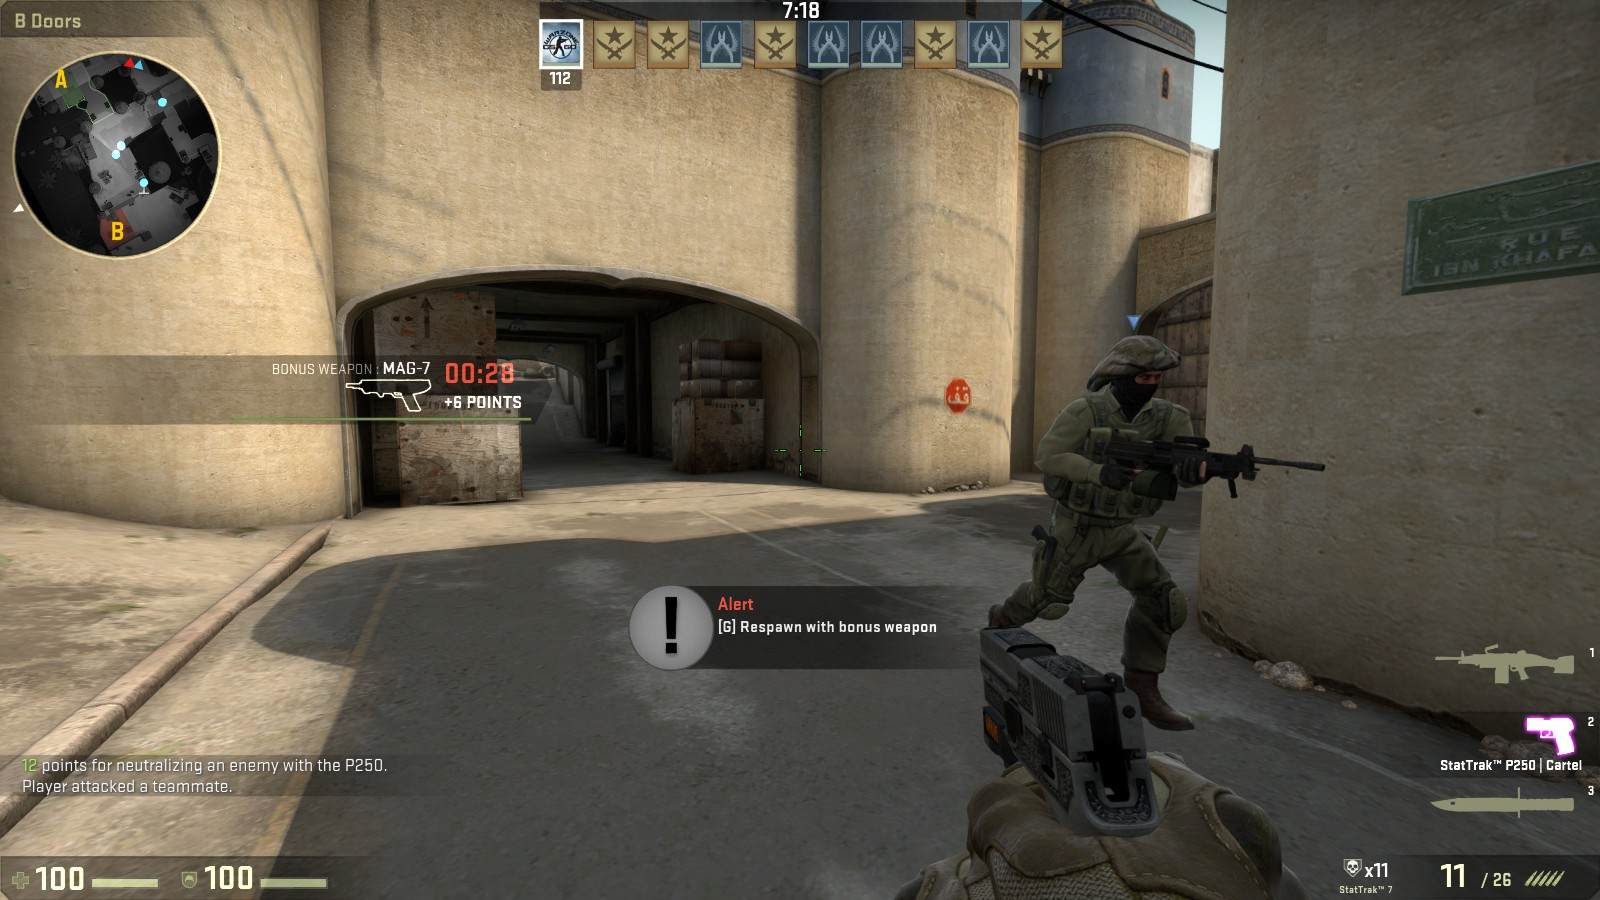c: (1027, 332, 1196, 727)
ch: (1096, 327, 1175, 425)
